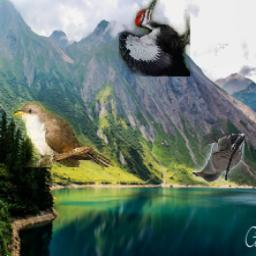Cuckoo: (13, 102, 115, 168), (194, 134, 246, 183)
Woodpecker: (119, 0, 190, 78)
